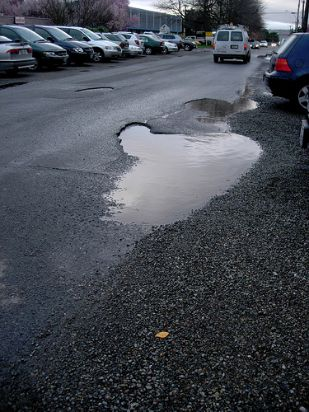pothole: (98, 115, 265, 228), (180, 92, 260, 125)
